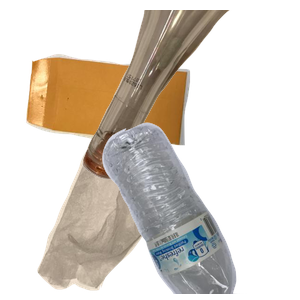glass: (80, 10, 300, 182)
paper: (23, 51, 206, 189)
plastic: (100, 120, 300, 300)
trash: (35, 140, 203, 300)
